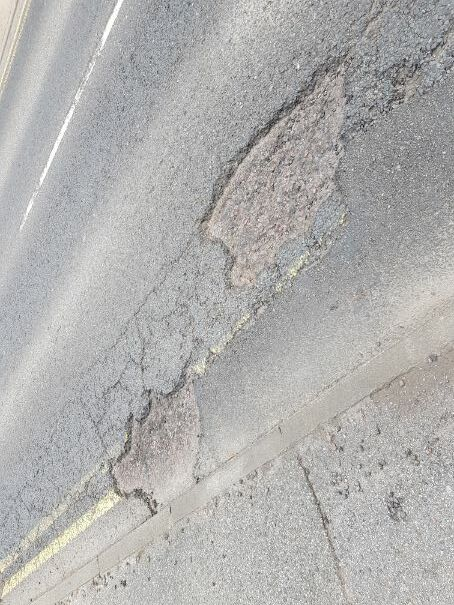pothole: (195, 48, 357, 296), (107, 351, 203, 518)
